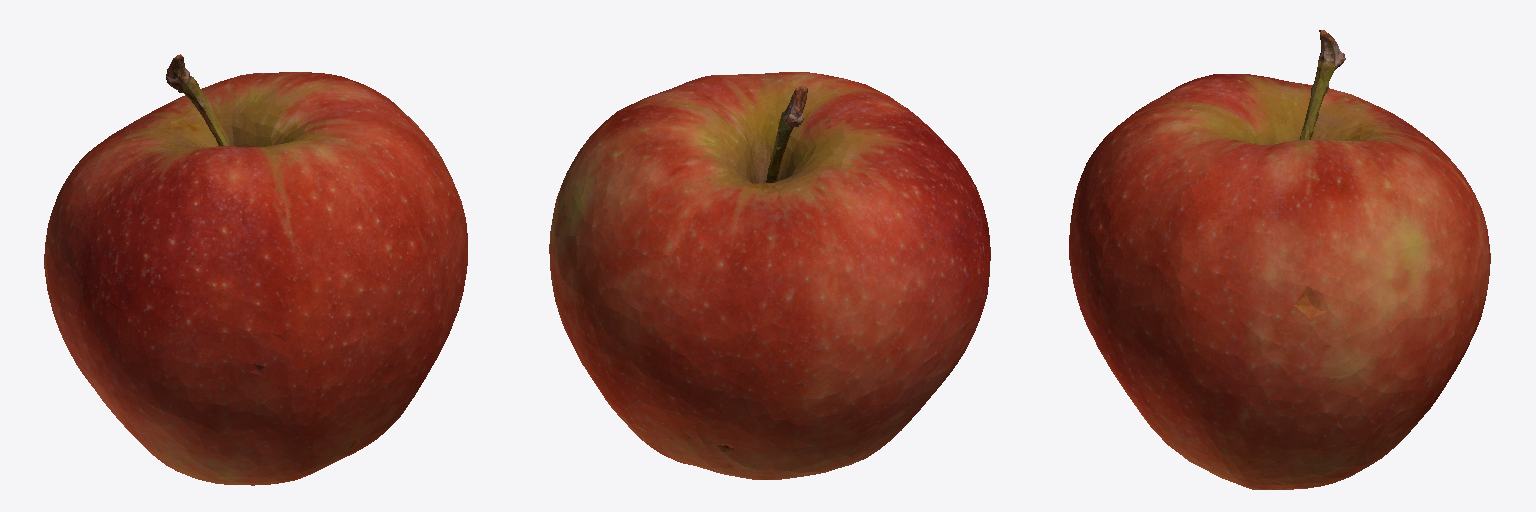
The picture shows the model from 3 angles: view 1: azimuth 30°, elevation 25°; view 2: azimuth 150°, elevation 25°; view 3: azimuth 270°, elevation 25°; orthographic projection.
Parts seen in each view (by area): view 1: 3DApple001_SQ; view 2: 3DApple001_SQ; view 3: 3DApple001_SQ.
Boxes of the visible parts, box(x1,y1,x2,y2) form: 3DApple001_SQ: box(44, 54, 467, 485); 3DApple001_SQ: box(549, 72, 990, 479); 3DApple001_SQ: box(1069, 30, 1490, 489).
Bounding box in the file's own units: 0.1172 × 0.1188 × 0.1143.
1 materials, 1 textured.